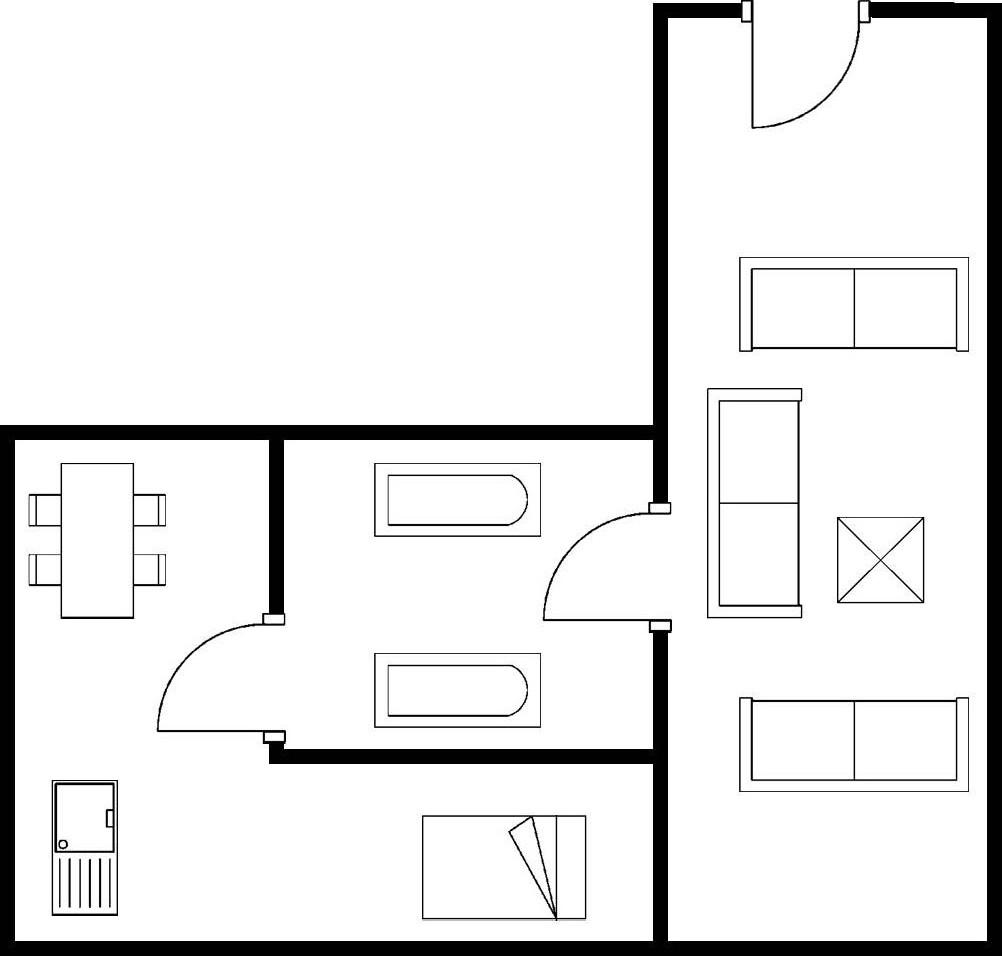bed: (416, 808, 592, 926)
dining_table: (23, 457, 172, 624)
sink: (44, 775, 125, 919)
sofa: (732, 690, 975, 801), (732, 250, 977, 359), (701, 383, 807, 625)
tub: (365, 644, 547, 735), (367, 456, 548, 544)
